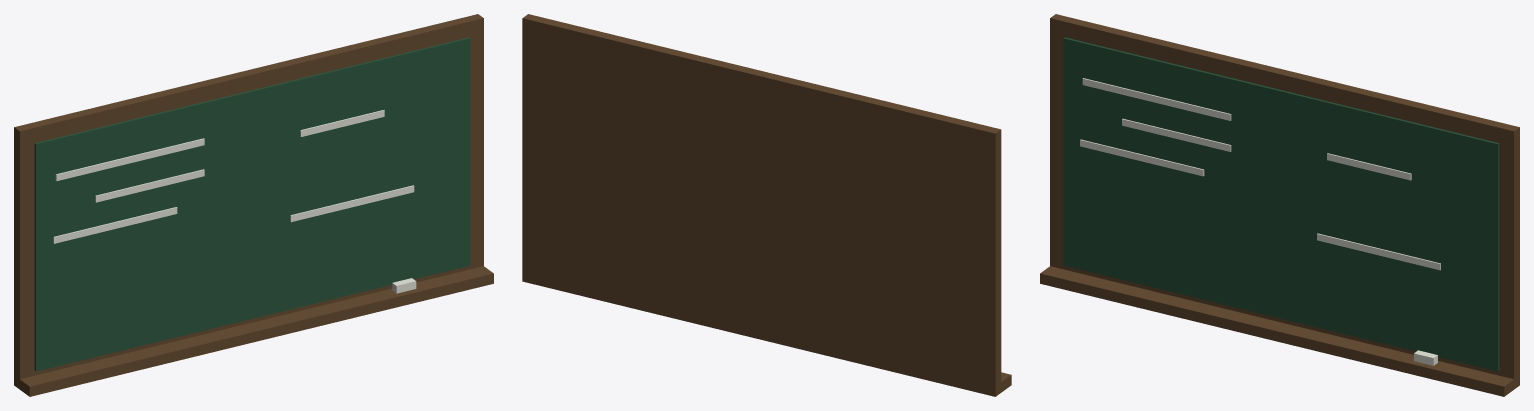
The model's file is esc-lousa.gltf.
The picture shows the model from 3 angles, left to right: view 1: azimuth 30°, elevation 25°; view 2: azimuth 150°, elevation 25°; view 3: azimuth 330°, elevation 25°; orthographic projection.
Parts seen in each view (by area): view 1: esc-lousa; view 2: esc-lousa; view 3: esc-lousa.
Boxes of the visible parts, left/top/right/bottom form: esc-lousa: left=14, top=14, right=493, bottom=396; esc-lousa: left=522, top=14, right=1011, bottom=396; esc-lousa: left=1040, top=14, right=1519, bottom=396.
Bounding box in the file's own units: 1.88 × 1 × 0.11.
